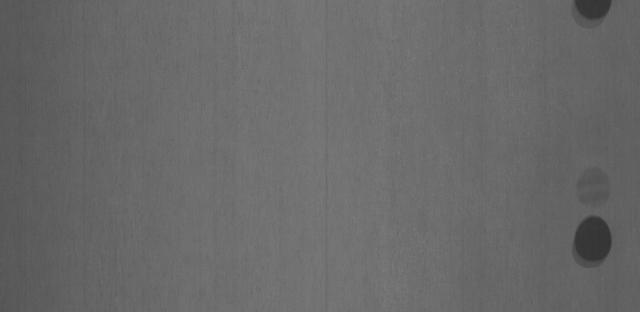oil_spot: (560, 215, 620, 269), (568, 164, 619, 207), (562, 0, 620, 31)
